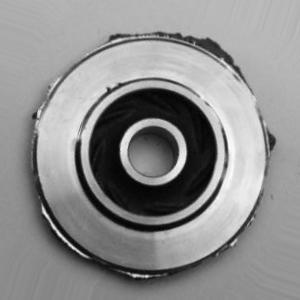casting_with_burr: (25, 29, 277, 282)
crack: (100, 79, 131, 105)
scratch: (193, 90, 231, 133), (70, 114, 99, 158)
